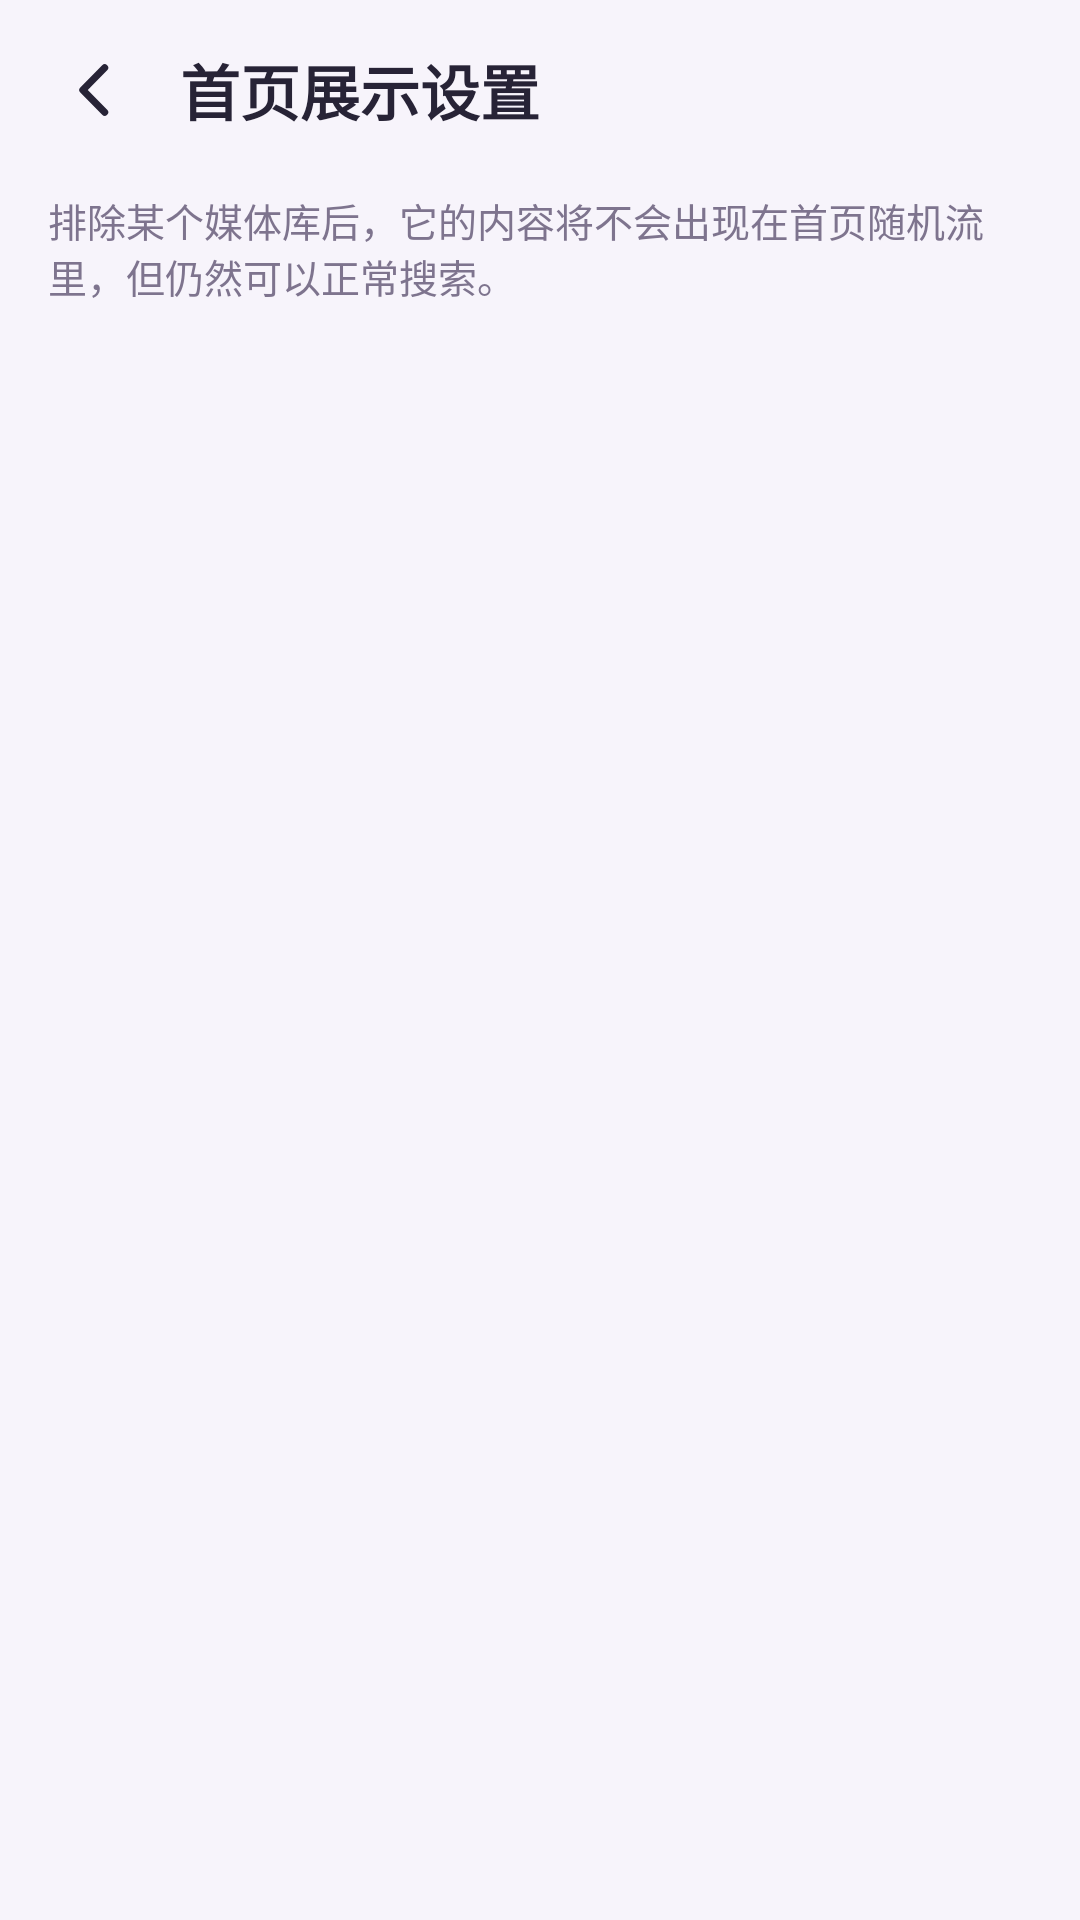

Icon bounding boxes for this 1080px x 1920px phone screenshot, format (x1, y1, x2, y2):
返回: (79, 64, 109, 116)
